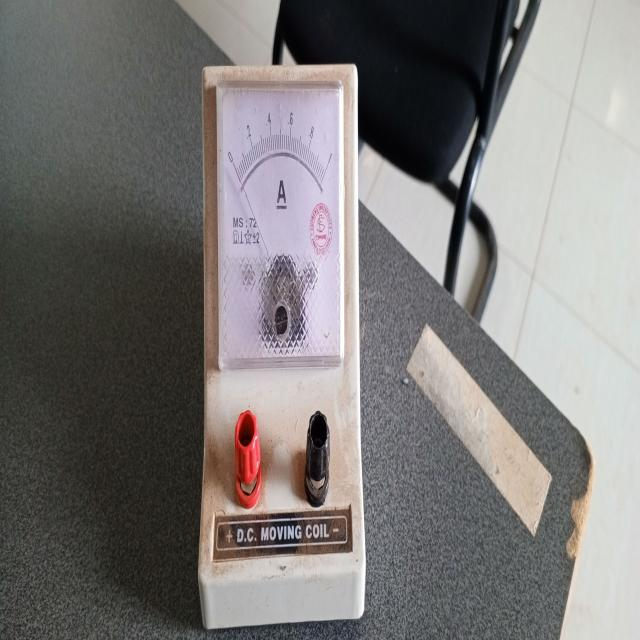Ammeter Analog: (188, 62, 375, 632)
